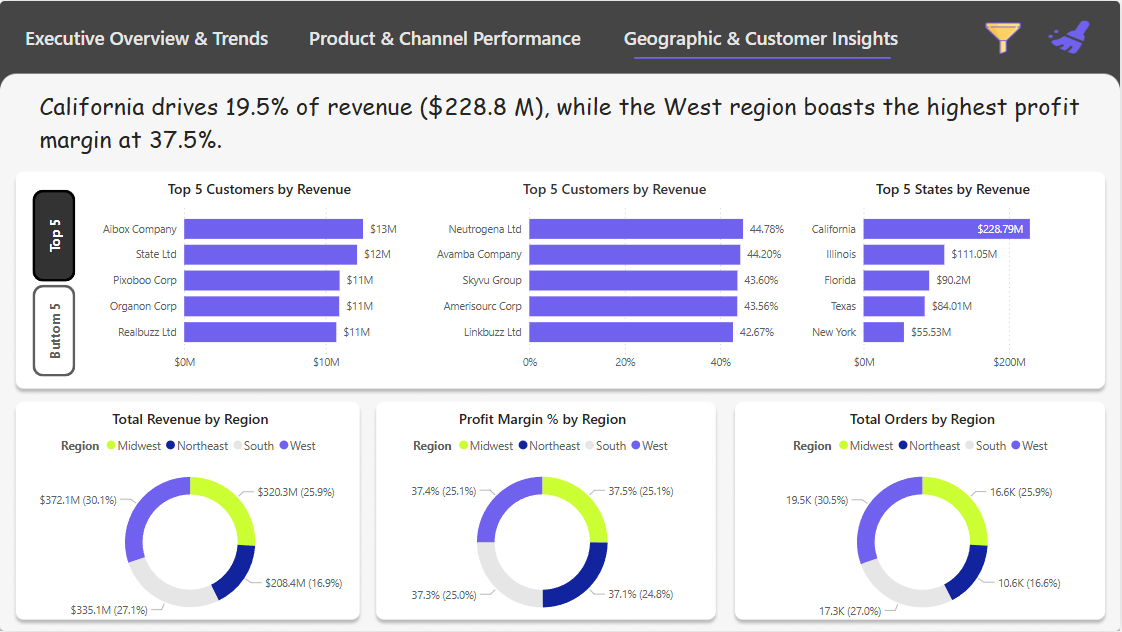

What the dashboard file says about the page in this screenshot:
{"tool":"powerbi","page":{"name":"Geographic & Customer Insights","canvas":[1280,720],"ordinal":2},"visuals":[{"type":"barChart","title":"Top 5 States by Revenue","fields":{"Category":["Sales_data.state_name"],"Y":["Measures_.Total Revenue"]},"box":[917,203.4,344.1,228.8],"z":0,"group":"g2"},{"type":"actionButton","box":[37,215,49,105],"z":0,"group":"g1"},{"type":"donutChart","title":"Total Revenue by Region","fields":{"Category":["Sales_data.us_region"],"Y":["Measures_.Total Revenue"]},"box":[20.3,466.1,394.9,254.2],"z":0},{"type":"barChart","title":"Top 5 Customers by Revenue","fields":{"Category":["Sales_data.customer_name"],"Y":["Measures_.Profit Margin %"]},"box":[486.5,203.4,430.5,228.8],"z":1000,"group":"g2"},{"type":"actionButton","box":[36.7,323.3,49,105],"z":1000,"group":"g1"},{"type":"donutChart","title":"Profit Margin % by Region","fields":{"Category":["Sales_data.us_region"],"Y":["Measures_.Profit Margin %"]},"box":[415.3,466.1,408.5,254.2],"z":1000},{"type":"actionButton","box":[337.2,14.1,342.3,55.1],"z":2000},{"type":"barChart","title":"Top 5 Customers by Revenue","fields":{"Category":["Sales_data.customer_name"],"Y":["Measures_.Total Revenue"]},"box":[105.1,203.4,381.4,228.8],"z":2000,"group":"g2"},{"type":"actionButton","box":[9,14.1,317.9,55.1],"z":3000},{"type":"actionButton","box":[702.6,14.1,333.3,55.1],"z":4000},{"type":"group","id":"g1","title":"top 5 button","box":[36.7,215,48.3,213.3],"z":6000},{"type":"group","id":"g2","title":"top 5","box":[105.1,203.4,1155.9,228.8],"z":9000},{"type":"textbox","title":"Top Text","box":[40,96.2,1222.5,120],"z":11000},{"type":"actionButton","box":[1188,14,70,55],"z":12000},{"type":"actionButton","box":[1120,21,53,42],"z":13000},{"type":"donutChart","title":"Total Orders by Region","fields":{"Category":["Sales_data.us_region"],"Y":["Measures_.Total Orders"]},"box":[850,465.7,408.6,254.3],"z":14001}]}

Visuals, with their boxes in screenshot pixels (x1, y1, x2, y2), scaled from the page's 1280x720 canvas onto the 1122x632 screenshot:
"Top 5 States by Revenue" barChart: [x1=804, y1=179, x2=1105, y2=379]
actionButton: [x1=32, y1=189, x2=75, y2=281]
"Total Revenue by Region" donutChart: [x1=18, y1=409, x2=364, y2=631]
"Top 5 Customers by Revenue" barChart: [x1=426, y1=179, x2=804, y2=379]
actionButton: [x1=32, y1=284, x2=75, y2=376]
"Profit Margin % by Region" donutChart: [x1=364, y1=409, x2=722, y2=631]
actionButton: [x1=296, y1=12, x2=596, y2=61]
"Top 5 Customers by Revenue" barChart: [x1=92, y1=179, x2=426, y2=379]
actionButton: [x1=8, y1=12, x2=287, y2=61]
actionButton: [x1=616, y1=12, x2=908, y2=61]
"top 5 button" group: [x1=32, y1=189, x2=75, y2=376]
"top 5" group: [x1=92, y1=179, x2=1105, y2=379]
"Top Text" textbox: [x1=35, y1=84, x2=1107, y2=190]
actionButton: [x1=1041, y1=12, x2=1103, y2=61]
actionButton: [x1=982, y1=18, x2=1028, y2=55]
"Total Orders by Region" donutChart: [x1=745, y1=409, x2=1103, y2=631]
